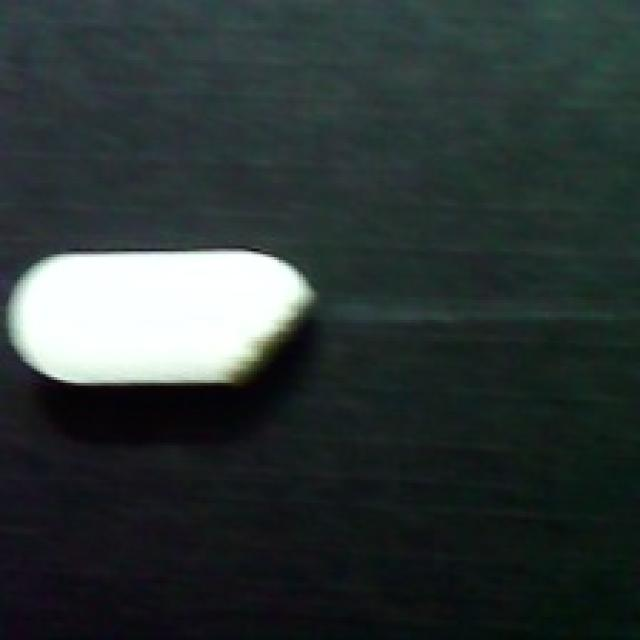defected: (0, 243, 320, 394)
